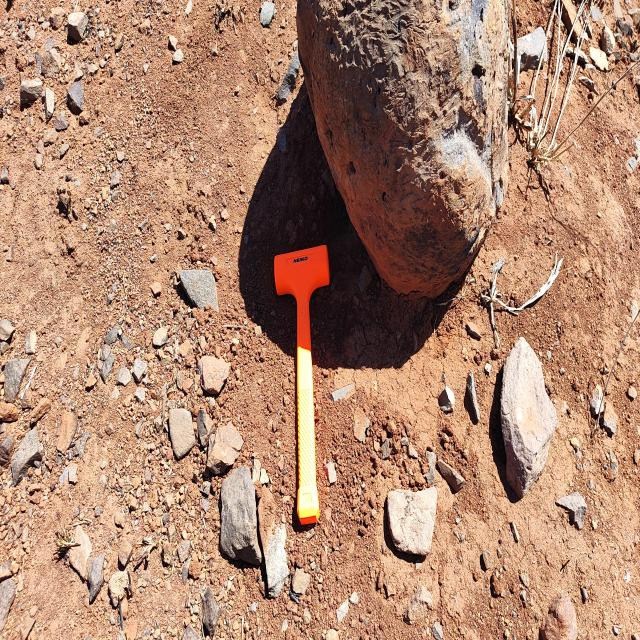Orange_hammer: (273, 243, 330, 527)
